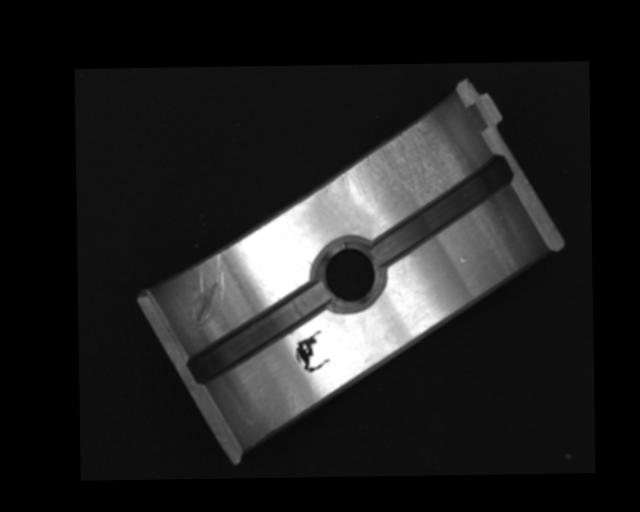blot: (294, 328, 330, 373)
bruise: (459, 254, 469, 264)
gap: (368, 154, 515, 264), (185, 281, 326, 383)
hole: (314, 240, 387, 312)
nick: (189, 251, 225, 331)
scratch: (325, 112, 466, 207)
